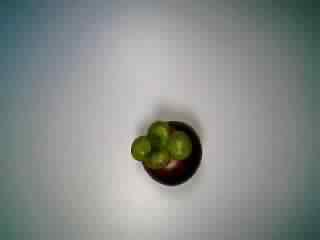mangosteen: (128, 110, 206, 185)
